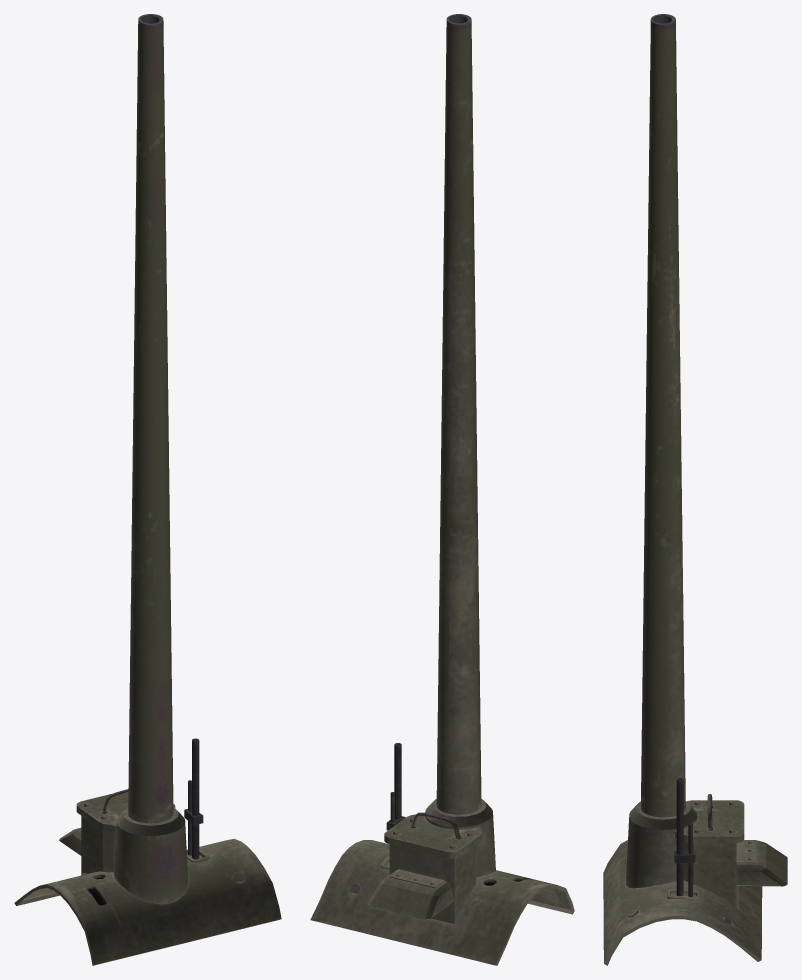
The model's file is Gun_07.glb.
3 renders of one model, left to right at view 1: azimuth 30°, elevation 25°; view 2: azimuth 150°, elevation 25°; view 3: azimuth 270°, elevation 25°, orthographic.
Parts seen in each view (by area): view 1: set_0_group_0; view 2: set_0_group_0; view 3: set_0_group_0.
Part boxes in pixels (x1=…): set_0_group_0: x1=14, y1=14, x2=281, y2=965; set_0_group_0: x1=310, y1=14, x2=574, y2=965; set_0_group_0: x1=603, y1=14, x2=787, y2=965.
Size of the model in its own units: 0.5469 by 2.51 by 0.4678.
1 material, 1 textured.
